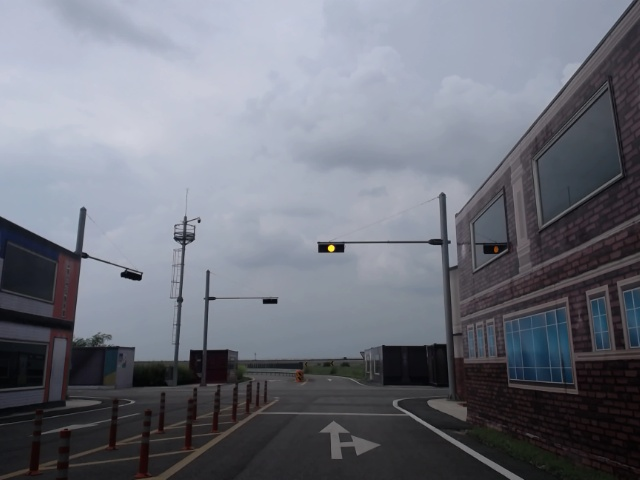orange_3: (318, 242, 344, 253)
